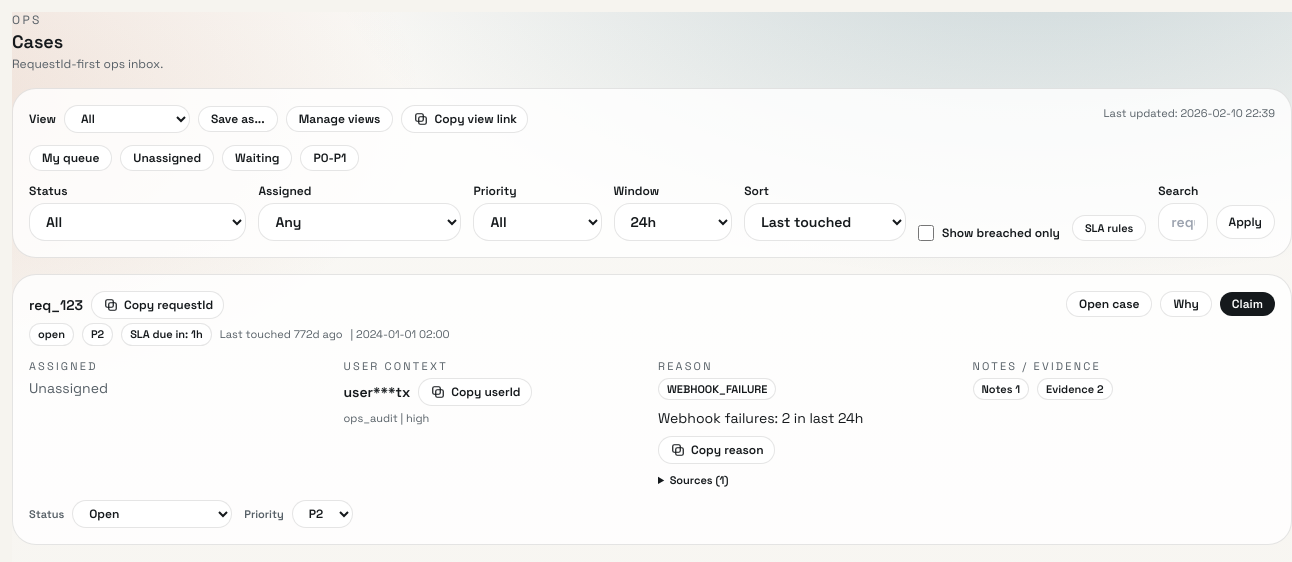
Test: Ops cases queue › claims and releases a case
The width and height of the screenshot is (1292, 562).
Click the button "Claim": (1247, 304) 1220,292 -> 1275,316
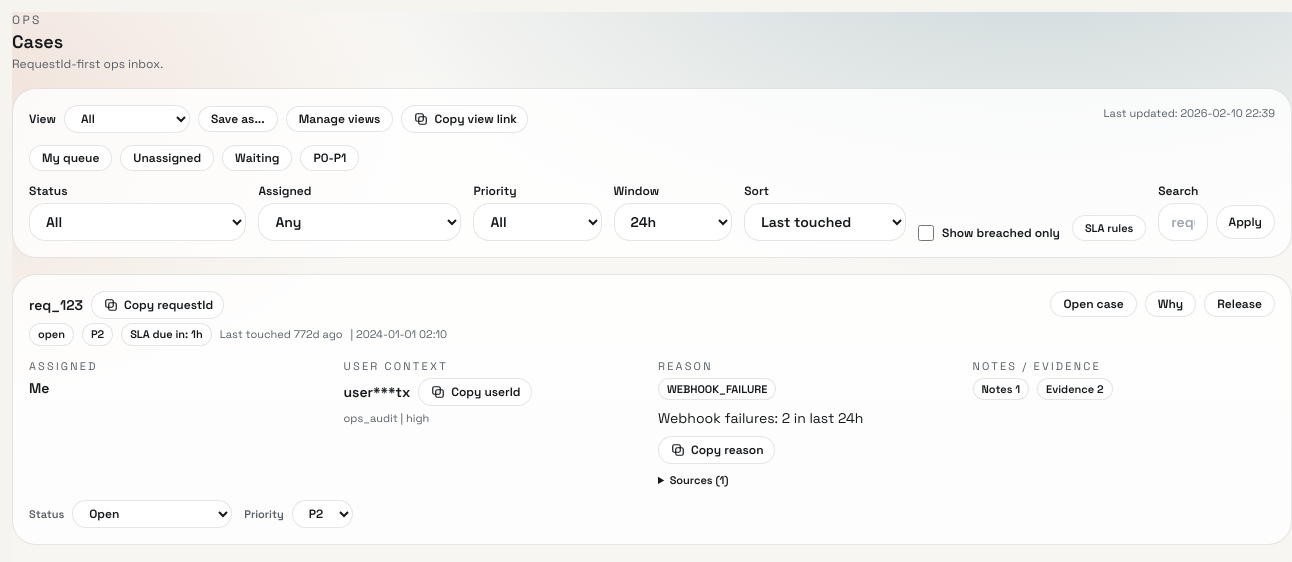
Expected: the button "Release" is shown
Click the button "Release": (1240, 304) 1204,291 -> 1275,317
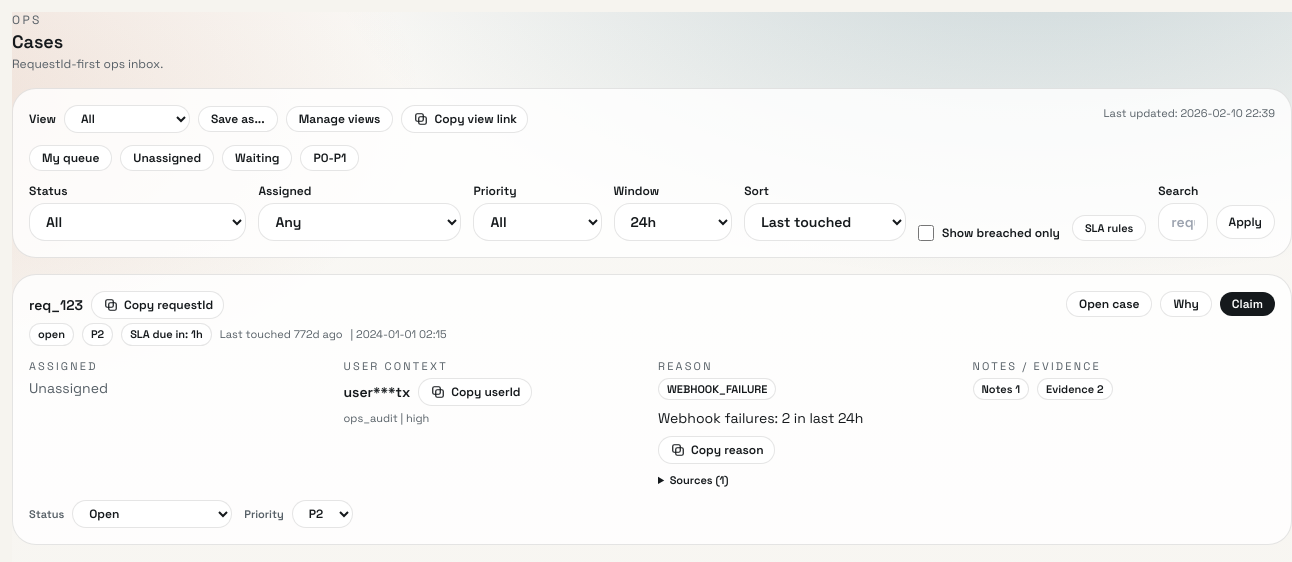
Expected: the button "Claim" is shown, 1220,292 -> 1275,316
